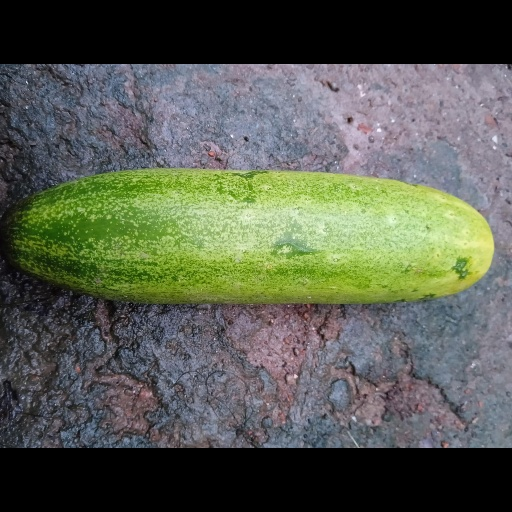concombre: (1, 168, 496, 303)
